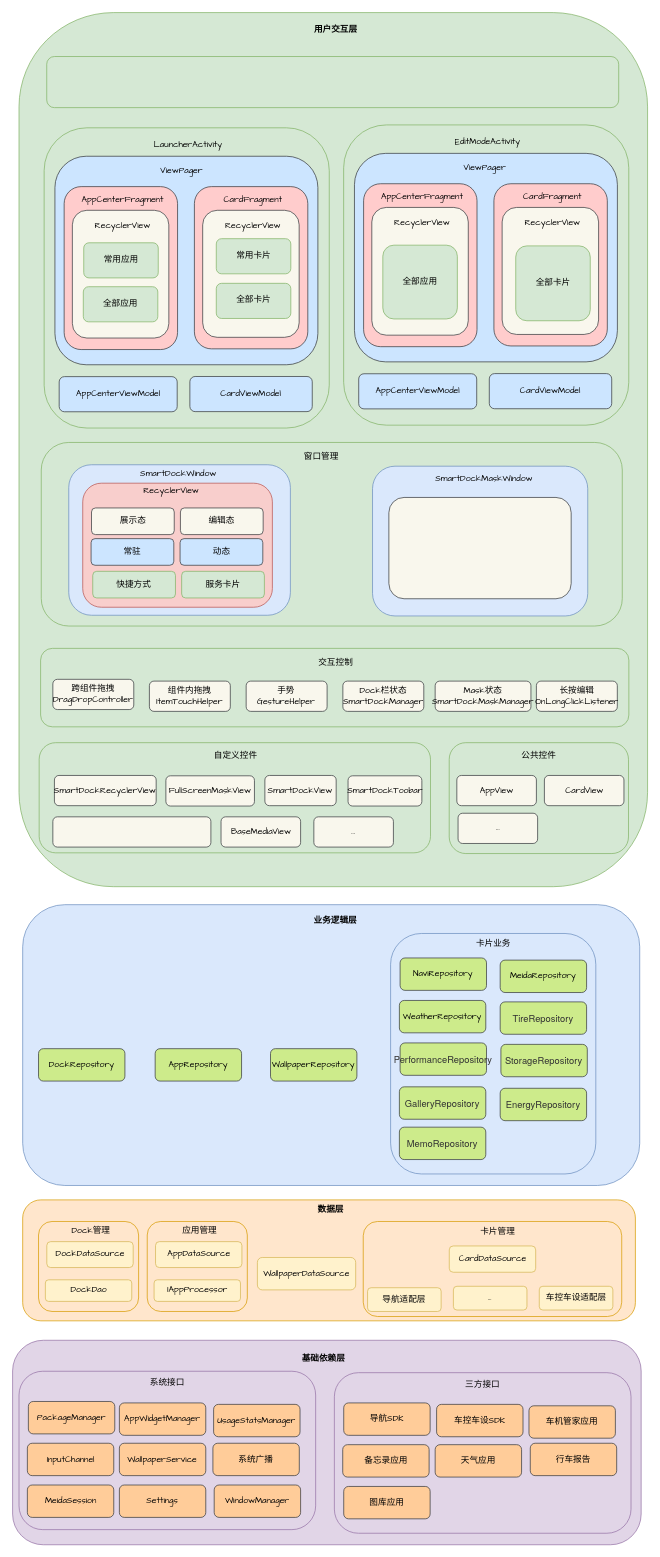
Image size: 660x1557. Some labels were removed from this diagram. The shapes that lost their labels are listed below. From the top down, each one's centre as x and y in pixels, then its label:
point 332,82: MainActivity Launcher入口
point 479,548: 显示全屏半透明遮罩
point 131,831: HorizontalCenterLinearLayoutManager
